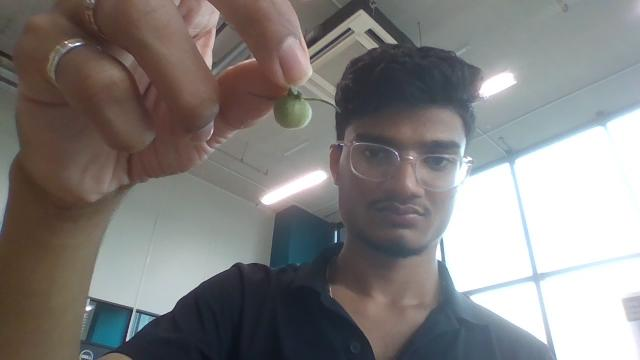Fruit Maturation: (272, 90, 312, 130)
